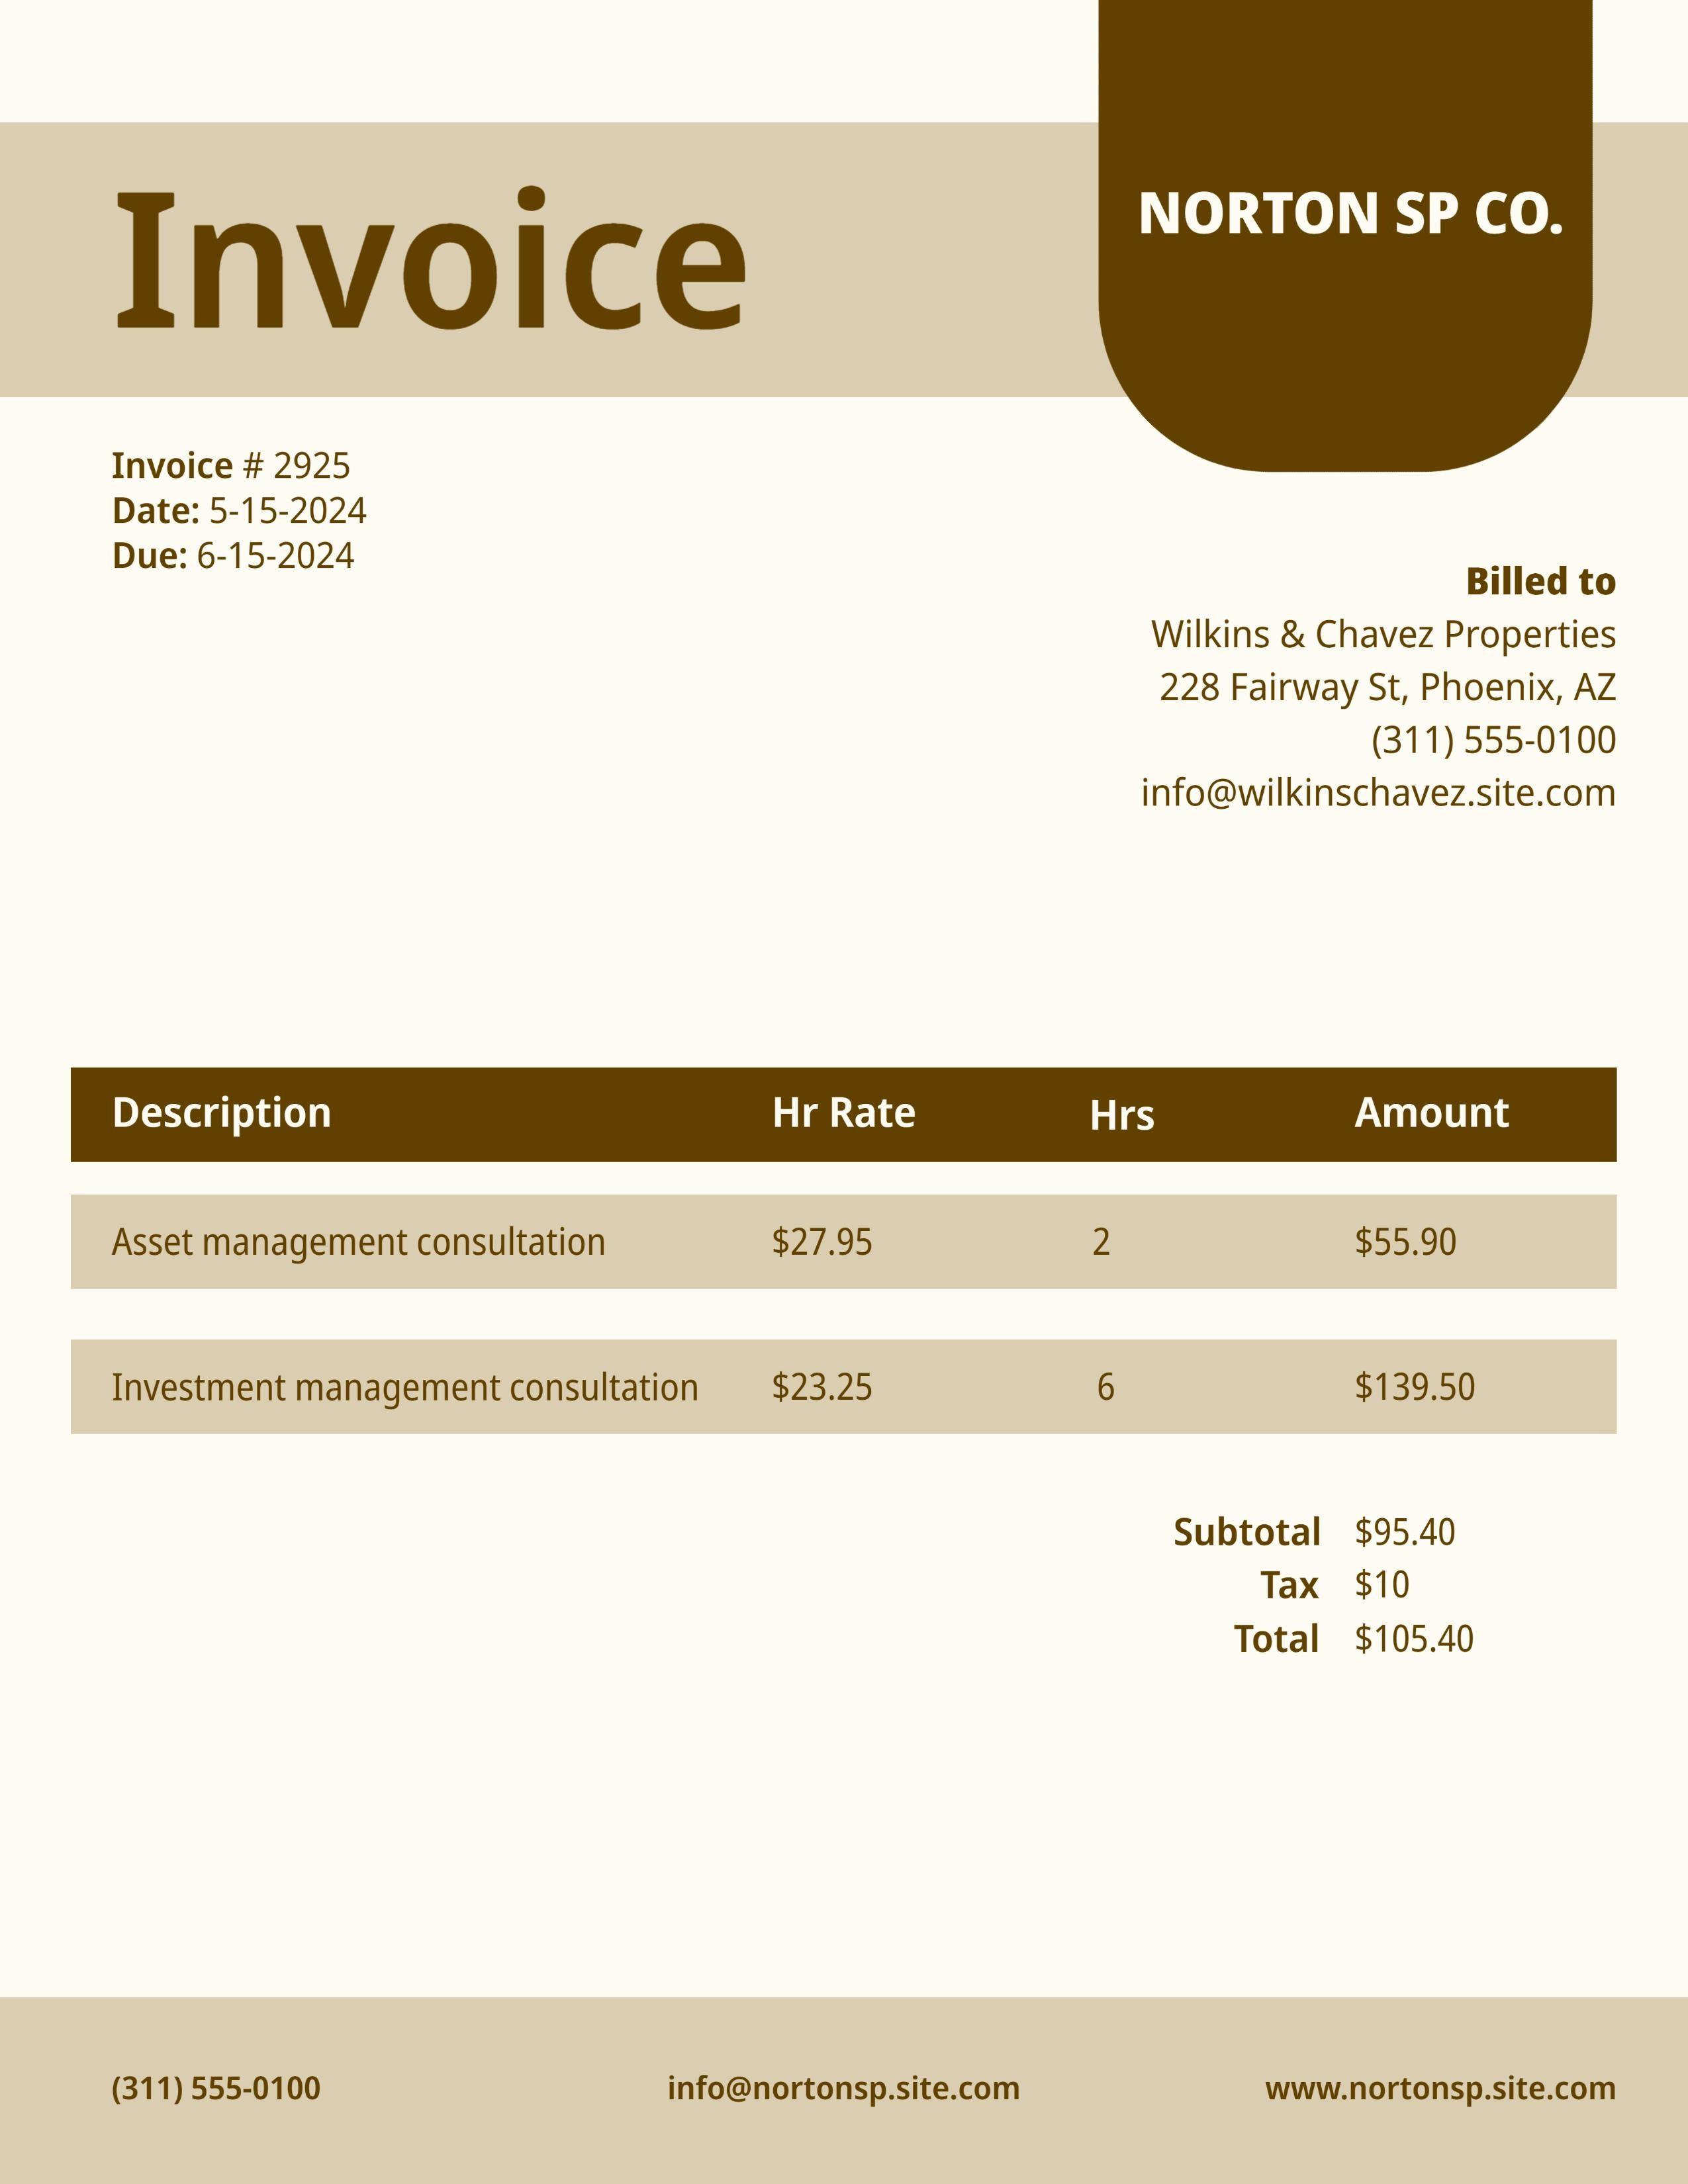ROI: (62, 1065, 1622, 1427), (1135, 546, 1631, 831), (1149, 1486, 1523, 1681), (1129, 168, 1573, 264), (106, 443, 394, 589)
